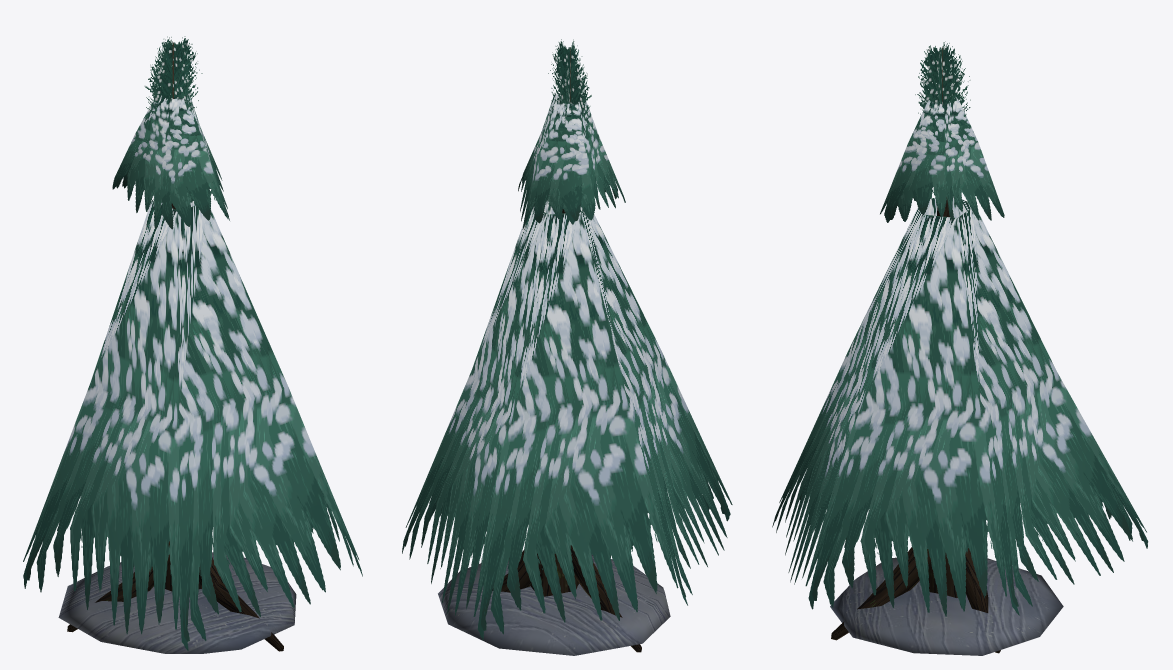
The model's file is rimeshore_pine_b_lod1.glb.
3 views of the same model, side by side, from view 1: azimuth 30°, elevation 25°; view 2: azimuth 150°, elevation 25°; view 3: azimuth 270°, elevation 25° (orthographic). The views are drawn at different scales.
Parts seen in each view (by area): view 1: rimeshore_pine_b_lod1; view 2: rimeshore_pine_b_lod1; view 3: rimeshore_pine_b_lod1.
Part boxes in pixels (x1,y1,x2,y2): rimeshore_pine_b_lod1: (23,36,362,653); rimeshore_pine_b_lod1: (402,39,732,655); rimeshore_pine_b_lod1: (772,41,1148,655).
Size of the model in its own units: 1.95 by 3.99 by 2.4.
Materials: 3 (3 with a texture image).
